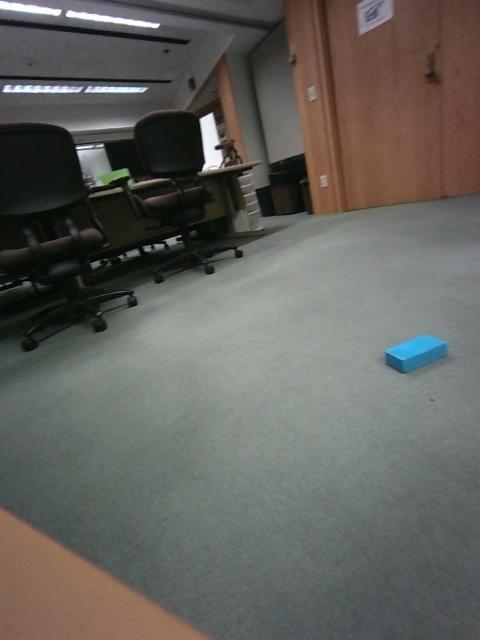block: (343, 313, 396, 387)
